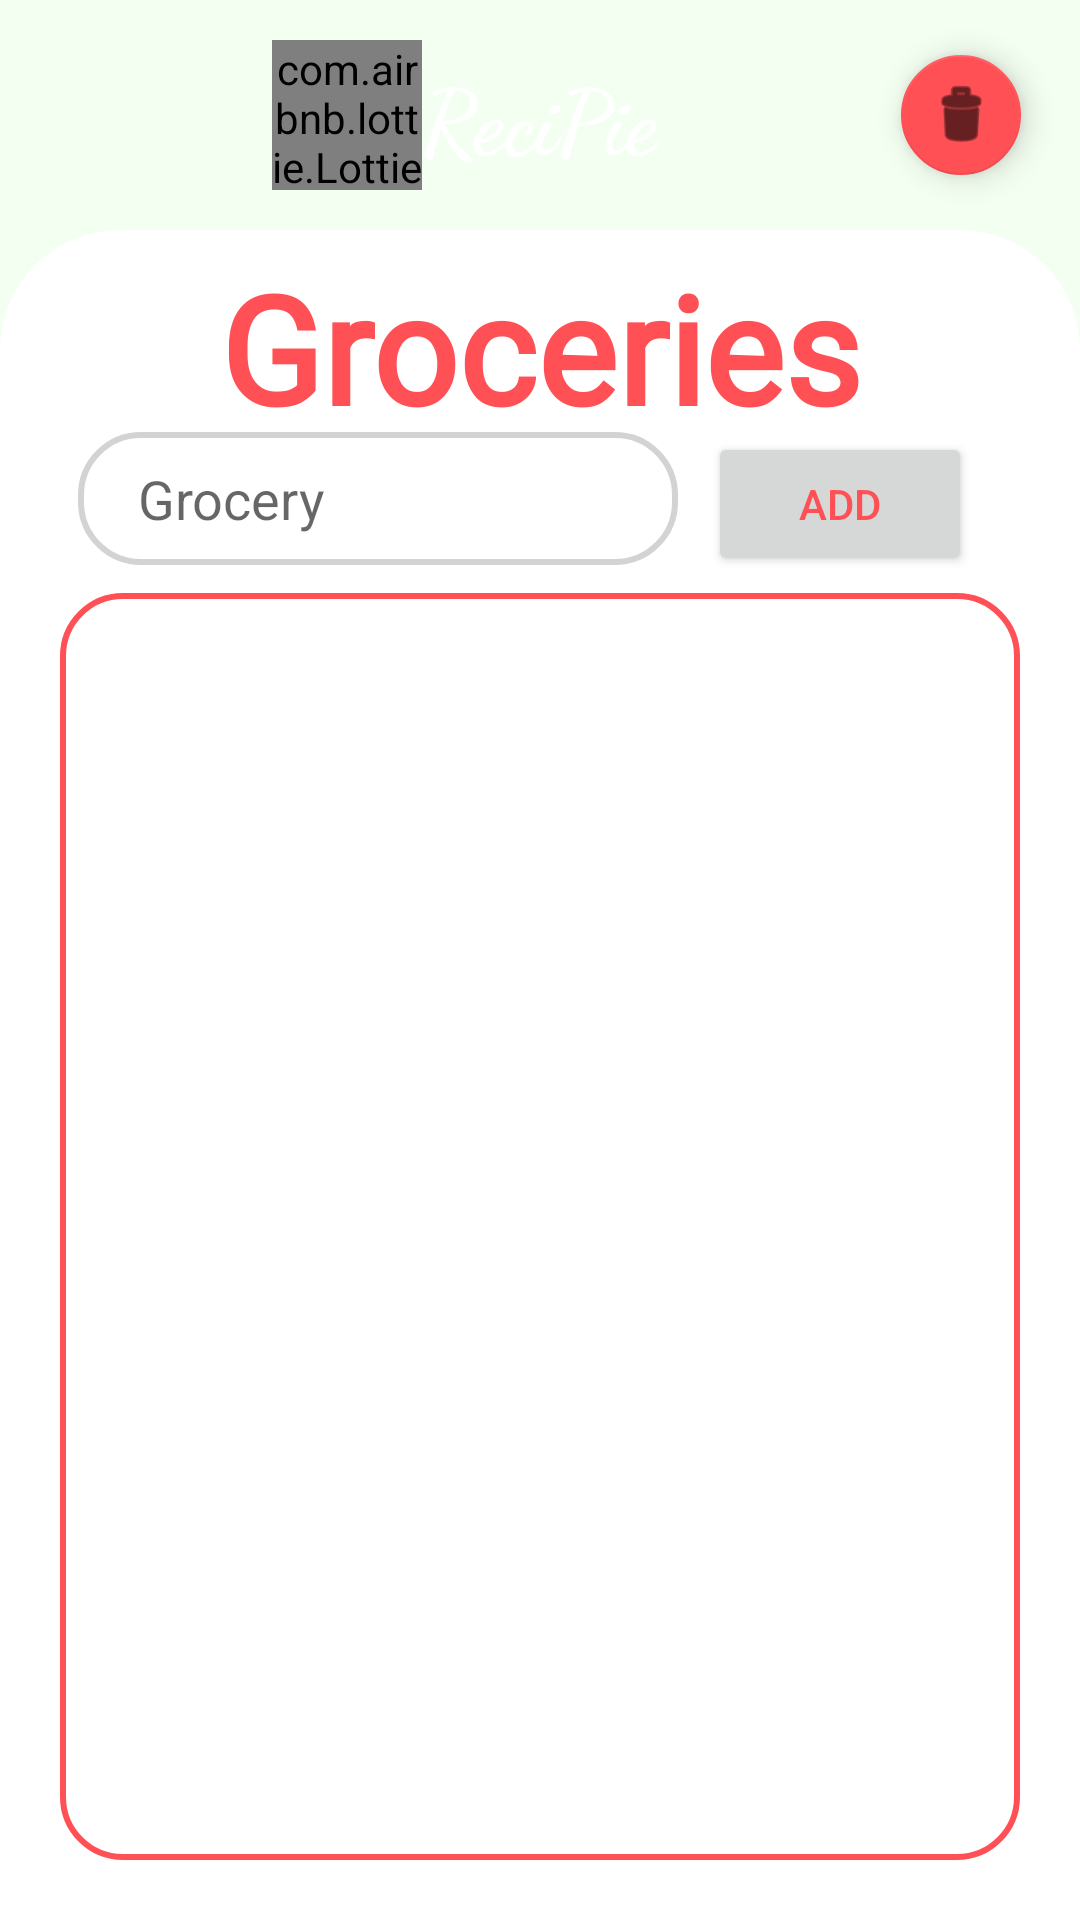

Icons on this 1080px x 1920px Android screen, each with its box as (x1, y1, x2, y2):
delete: (901, 55, 1024, 176)
